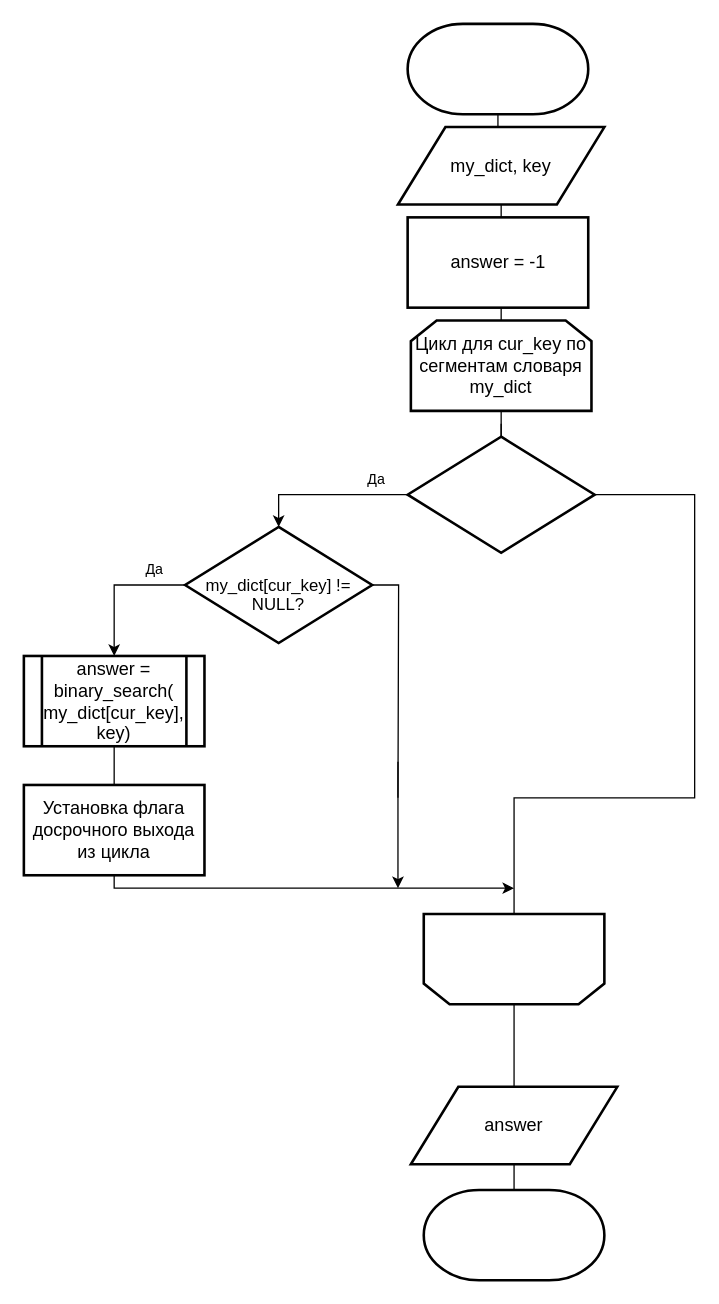
Some shapes in this 719 by 1304 pixel diagram are drawn without their labels. Here are the shapes that lost their labels. From the top down, the centre of each, then its label:
the point at 497,68: Начало программы segment_search
the point at 500,494: cur_key=key[0]?
the point at 513,958: Конец ц икла для cur_key по ключам словаря my_dict
the point at 513,1234: Конец программы segment_search
